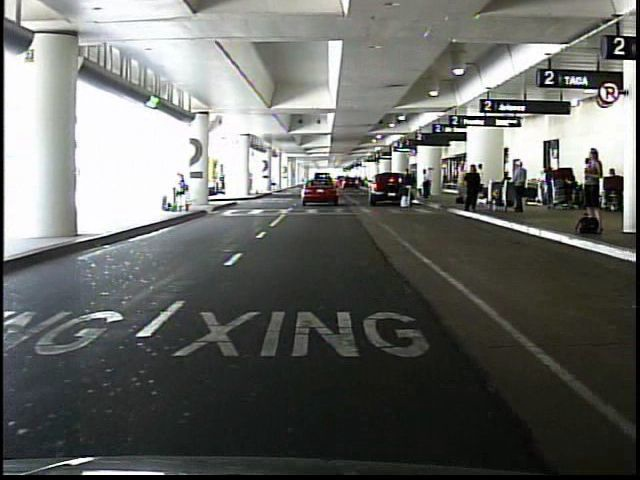person: (580, 146, 605, 218), (464, 162, 482, 212), (173, 172, 192, 217), (582, 159, 597, 216), (513, 161, 528, 214), (402, 166, 414, 210), (474, 163, 485, 202), (422, 168, 433, 201)
